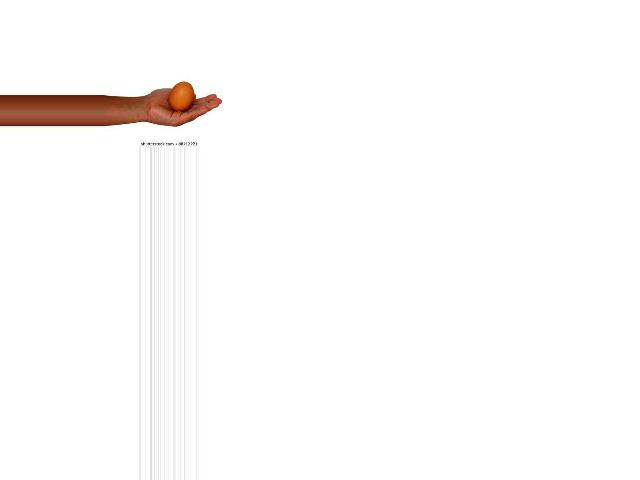egg: (169, 81, 194, 112)
